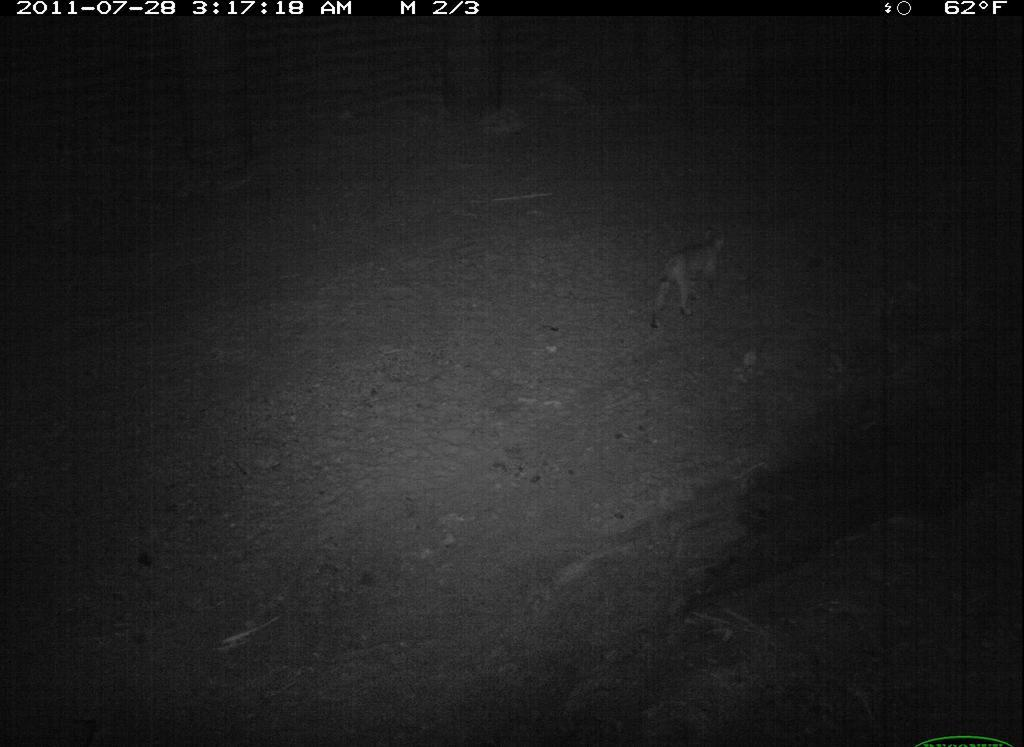bobcat: (644, 218, 740, 338)
